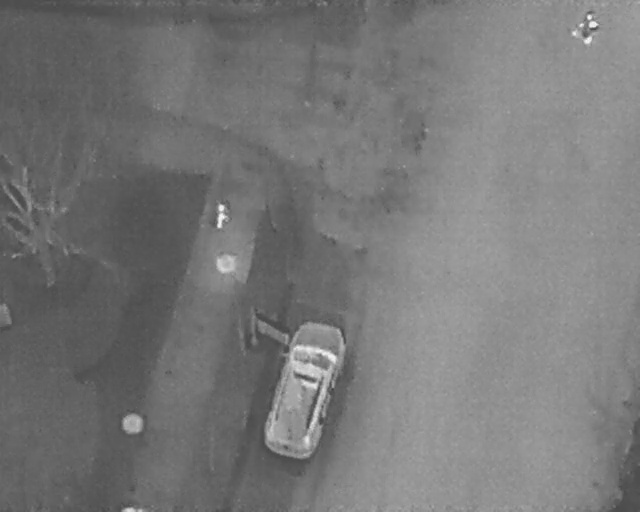Car: (256, 316, 352, 464)
Person: (577, 10, 598, 50), (215, 199, 232, 228)
